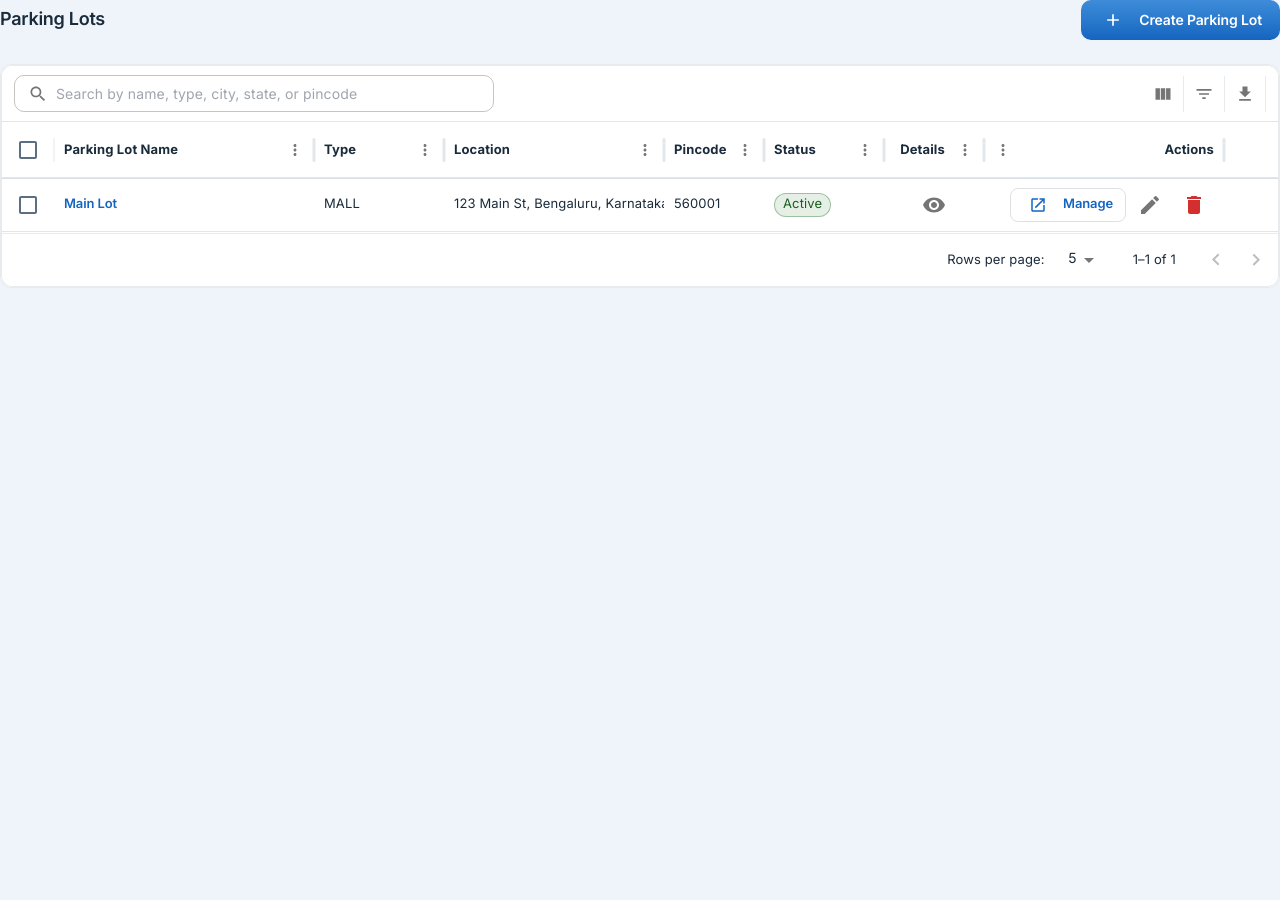
it: ParkingLotsPage › shows parking finder fields in create form
Check: the link "Main Lot" is shown, box [64,196,117,212]
Click the button "Create Parking Lot": (1181, 20) [1081,0,1279,40]
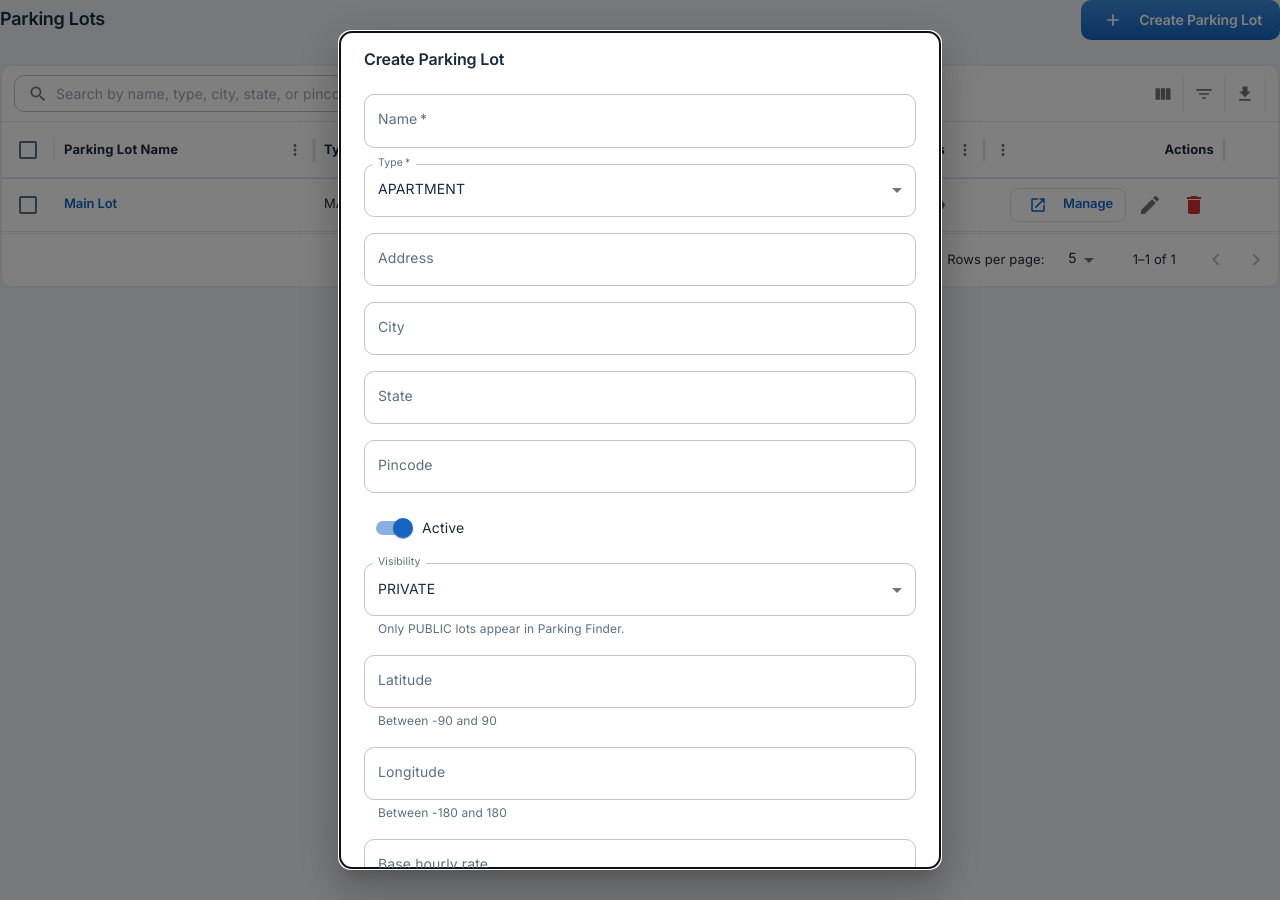
Check: the dropdown named "visibility" is shown, box [378,581,435,598]
Check: the text "Only PUBLIC lots appear in Parking Finder." is shown, box [378,621,625,636]
